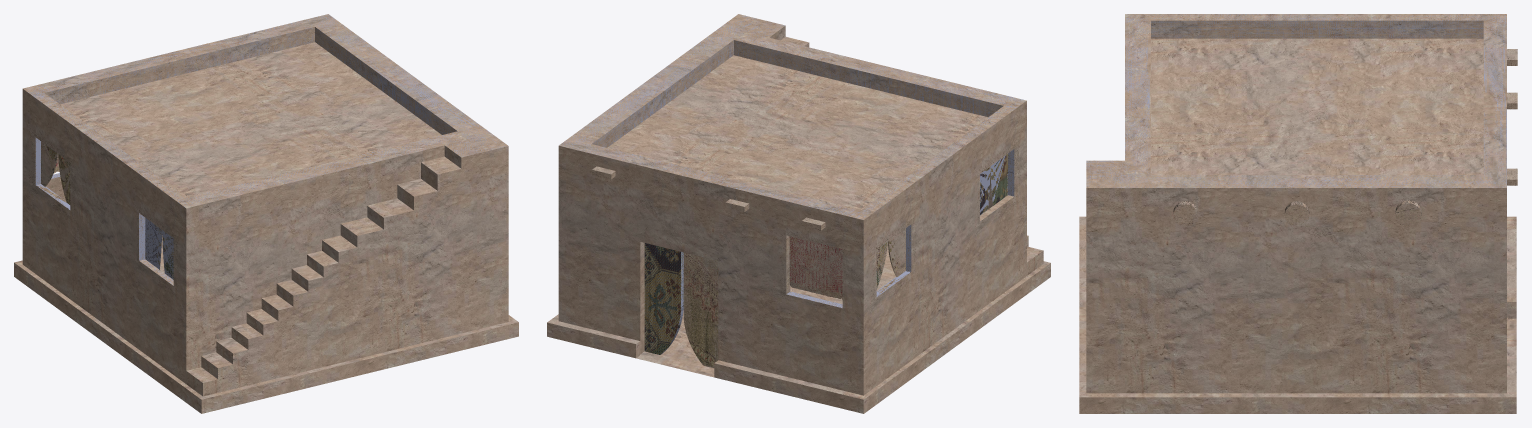
Rendered from house2.obj.
3 views of the same model, side by side, from view 1: azimuth 30°, elevation 25°; view 2: azimuth 150°, elevation 25°; view 3: azimuth 270°, elevation 25° (orthographic). The views are drawn at different scales.
Visible parts, largest first — view 1: Mesh1 Model; view 2: Mesh1 Model; view 3: Mesh1 Model.
Part boxes in pixels (x1,y1,x2,y2): Mesh1 Model: [14, 14, 518, 413]; Mesh1 Model: [547, 14, 1050, 413]; Mesh1 Model: [1079, 14, 1517, 413].
Bounding box in the file's own units: 8.7 × 4.98 × 8.92.
7 materials, 5 textured.
